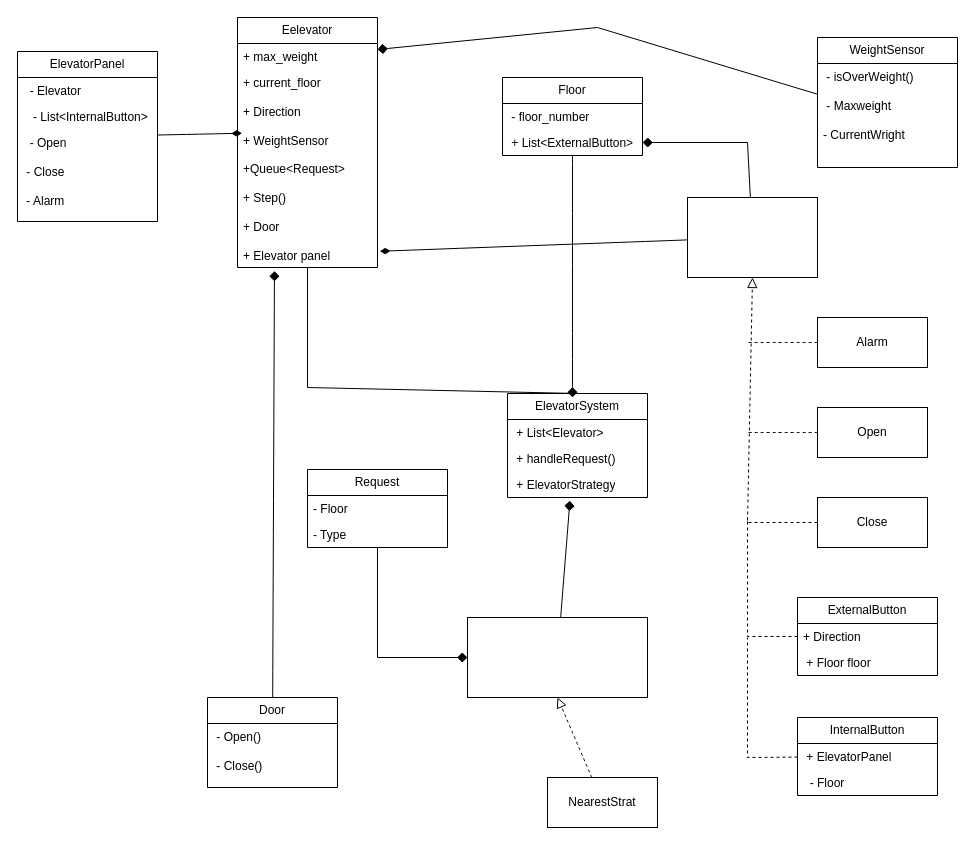
Some shapes in this 975 by 845 pixel diagram are drawn without their labels. The shapes that lost their labels are listed below. From the top down, each one's centre as x and y in pixels, then its label:
At (x=752, y=237): "«interface» Button Press()".
At (x=557, y=657): "«interface» EelevatorStrategy get(List<Elevator> , Request)".
